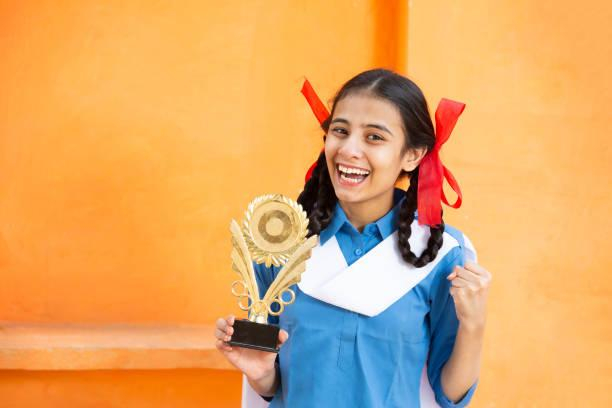Human: (217, 58, 505, 400)
